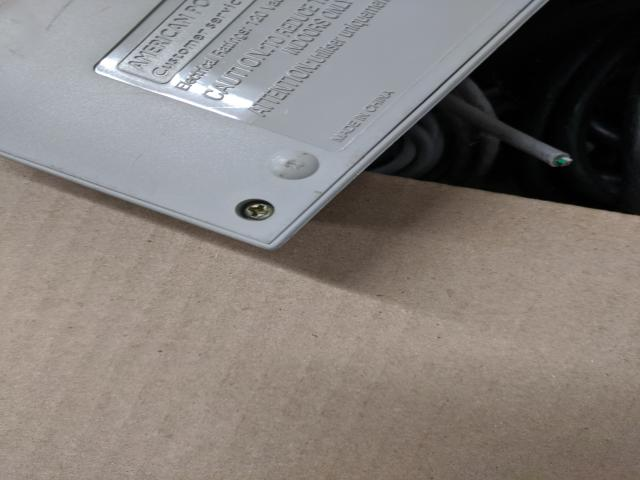CRS: (238, 202, 276, 218)
